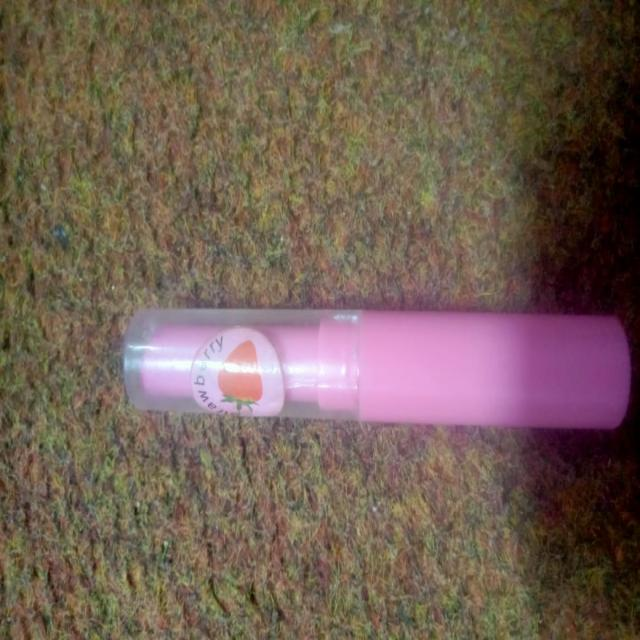lip gloss: (120, 297, 632, 425)
